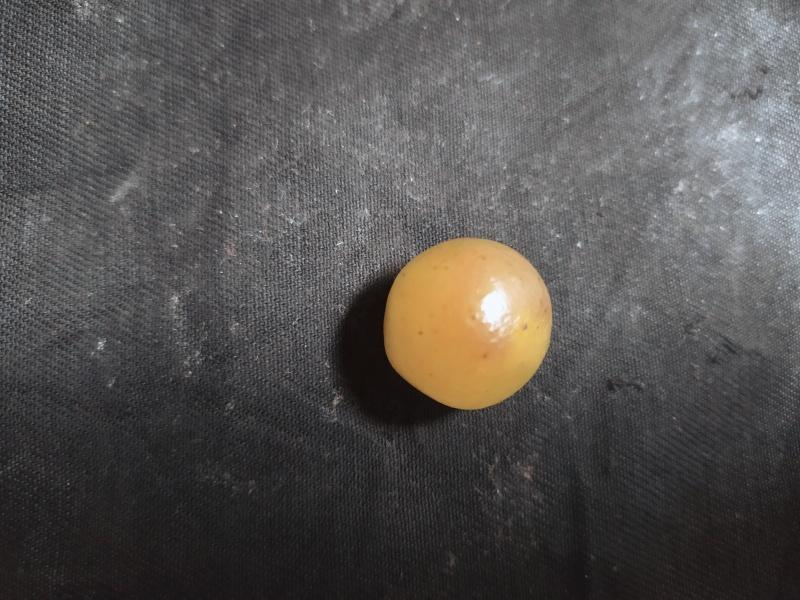Grape Rotten: (380, 235, 553, 412)
